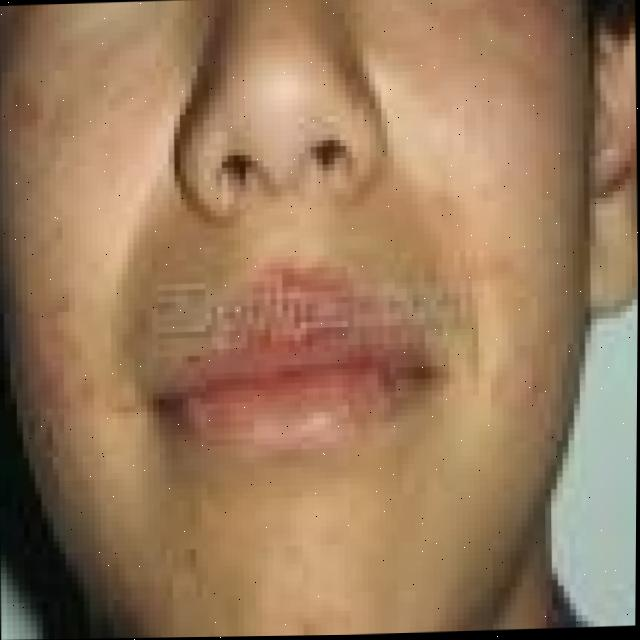Melasma: (242, 239, 366, 334), (0, 72, 110, 160), (467, 0, 558, 68)
